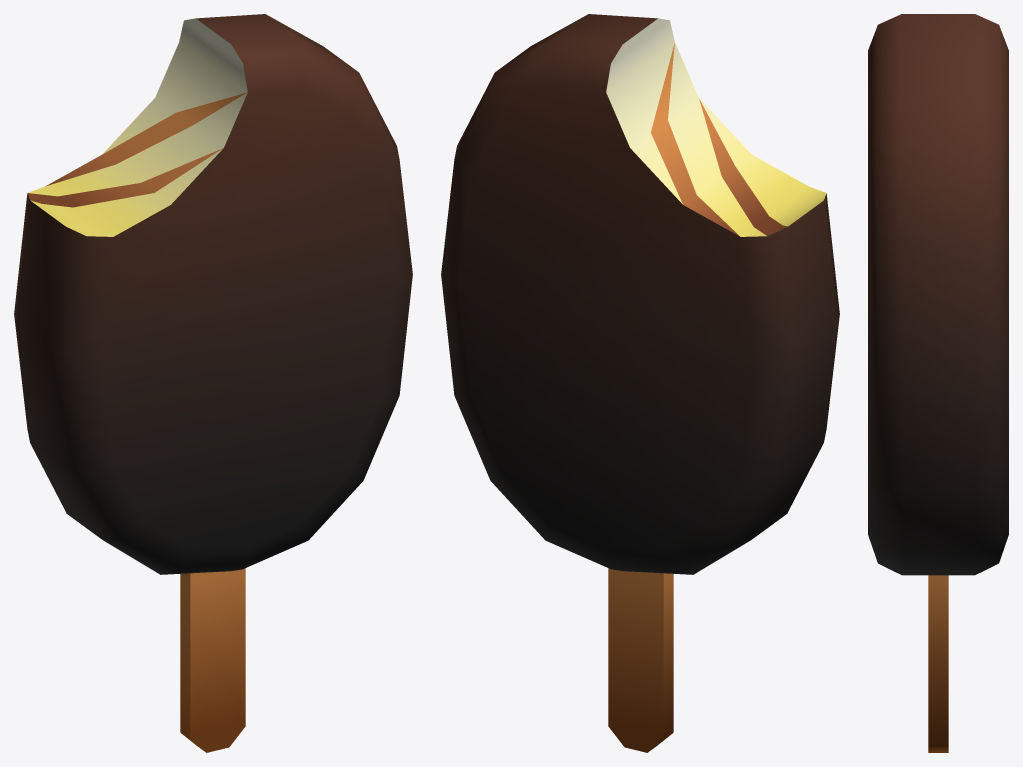
The model's file is m_BigPopsicle04.fbx.
3 views of the same model, side by side, from view 1: azimuth 30°, elevation 25°; view 2: azimuth 150°, elevation 25°; view 3: azimuth 270°, elevation 25° (orthographic). The views are drawn at different scales.
Parts seen in each view (by area): view 1: m_BigPopsicle04; view 2: m_BigPopsicle04; view 3: m_BigPopsicle04.
Boxes of the visible parts, left/top/right/bottom form: m_BigPopsicle04: left=14, top=14, right=412, bottom=752; m_BigPopsicle04: left=441, top=14, right=839, bottom=752; m_BigPopsicle04: left=868, top=14, right=1008, bottom=752.
Size of the model in its own units: 12.05 by 22.96 by 4.
